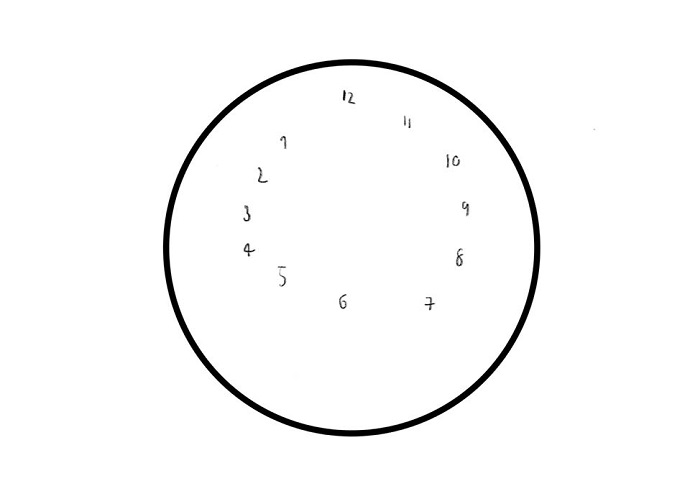eight: (455, 246, 466, 267)
eleven: (399, 113, 414, 131)
five: (275, 262, 289, 288)
four: (242, 241, 257, 259)
nine: (460, 199, 473, 220)
one: (277, 133, 295, 150)
seven: (423, 293, 437, 313)
six: (335, 290, 350, 311)
ten: (444, 150, 462, 171)
three: (240, 200, 254, 224)
twelve: (339, 85, 358, 108)
two: (254, 162, 271, 185)
